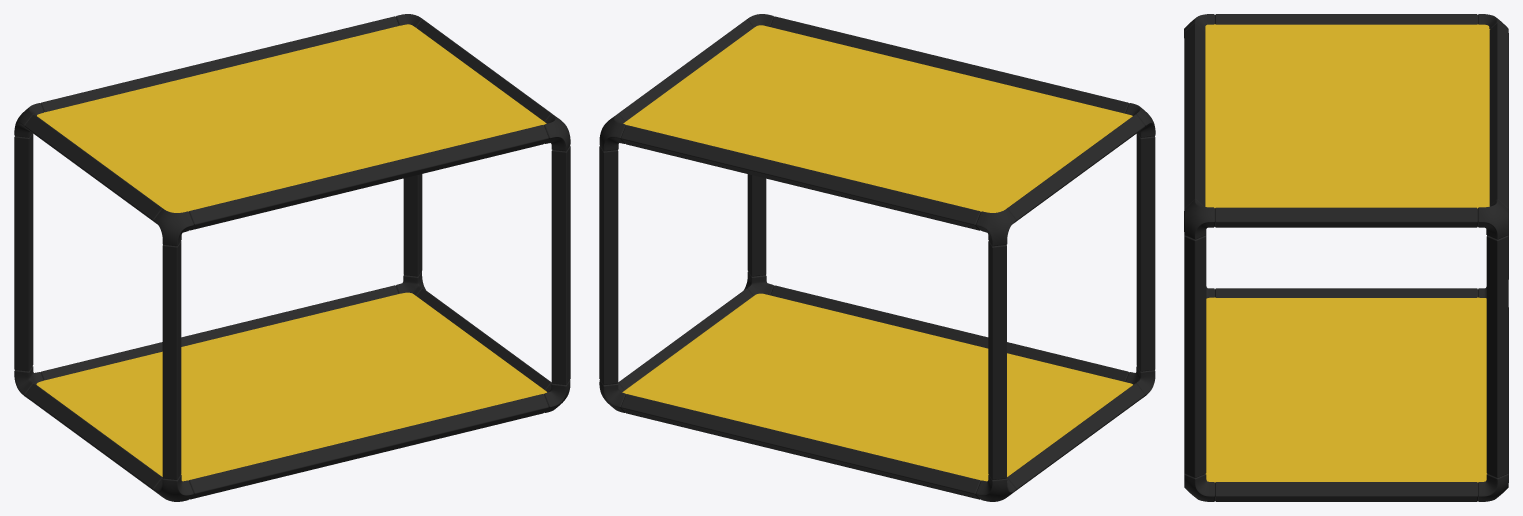
The picture shows the model from 3 angles, left to right: view 1: azimuth 30°, elevation 25°; view 2: azimuth 150°, elevation 25°; view 3: azimuth 270°, elevation 25°; orthographic projection.
Visible parts, largest first — view 1: 523x329x329; view 2: 523x329x329; view 3: 523x329x329.
Part boxes in pixels (bbox=[...]): 523x329x329: bbox=[14, 14, 570, 501]; 523x329x329: bbox=[599, 14, 1155, 501]; 523x329x329: bbox=[1184, 14, 1508, 501].
Size of the model in its own units: 0.6007 by 0.4066 by 0.4063.
